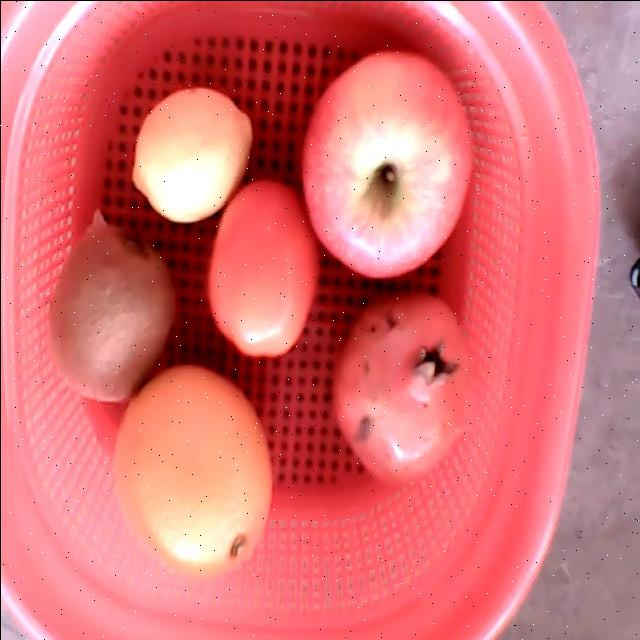apple: (301, 50, 472, 278)
kiwi: (48, 223, 176, 402)
lemon: (131, 87, 251, 223)
orange: (111, 364, 273, 579)
pomegranate: (332, 291, 477, 484)
tomato: (207, 179, 320, 355)
